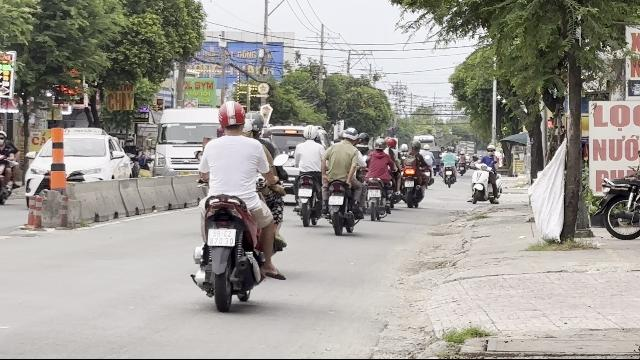helmet: (216, 100, 247, 136), (340, 127, 358, 142)
licenseplate: (208, 228, 236, 246), (328, 196, 344, 204)
motorcyclist: (189, 98, 289, 310), (322, 124, 363, 234)
